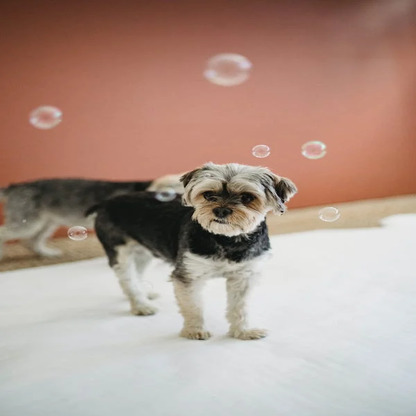yorkshire: (95, 161, 300, 344)
